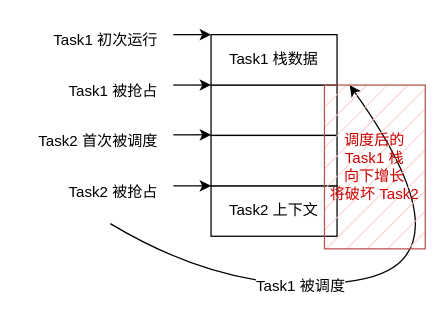
Image size: 447x316. Some labels were removed from this diagram. Here are the shapes that lost their labels. From the top down, the centre of each, then its label:
At (273,109): "Task1 上下文".
At (273,160): "Task2 栈数据".
